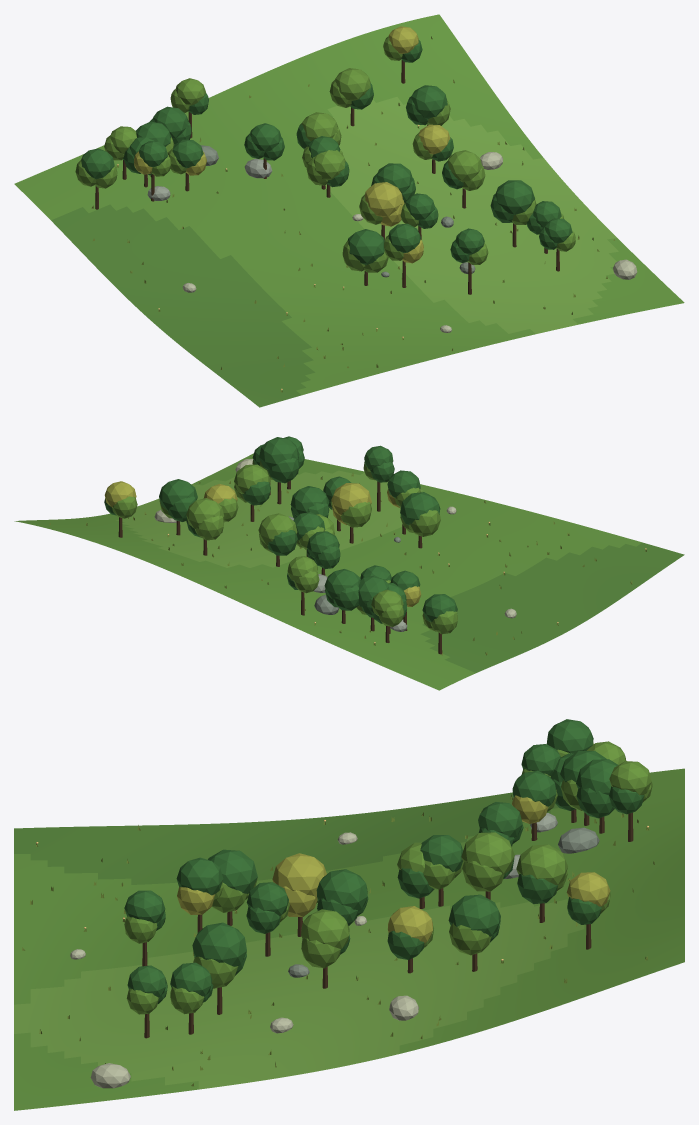
The model's file is Chunk_X-3_Y0_Z0.fbx.
3 views of the same model, one above another, from view 1: azimuth 30°, elevation 25°; view 2: azimuth 150°, elevation 25°; view 3: azimuth 270°, elevation 25° (orthographic). The views are drawn at different scales.
Parts seen in each view (by area): view 1: Terrain.003, Canopies.003, Rocks.003, Trunks.003, GroundCover.003; view 2: Terrain.003, Canopies.003, Trunks.003, Rocks.003, GroundCover.003; view 3: Terrain.003, Canopies.003, Rocks.003, Trunks.003, GroundCover.003.
Boxes of the visible parts, x1,y1,x2,y2 form: Terrain.003: [14, 14, 684, 407]; Canopies.003: [75, 26, 575, 272]; Rocks.003: [147, 145, 637, 332]; Trunks.003: [95, 60, 559, 294]; GroundCover.003: [91, 36, 614, 392]; Terrain.003: [14, 453, 684, 690]; Canopies.003: [104, 436, 457, 634]; Trunks.003: [118, 480, 442, 654]; Rocks.003: [154, 459, 516, 631]; GroundCover.003: [49, 473, 646, 655]; Terrain.003: [14, 768, 684, 1110]; Canopies.003: [124, 719, 652, 1014]; Rocks.003: [70, 813, 599, 1088]; Trunks.003: [142, 809, 633, 1038]; GroundCover.003: [22, 794, 654, 1086].
Size of the model in its own units: 100 by 31.37 by 100.
